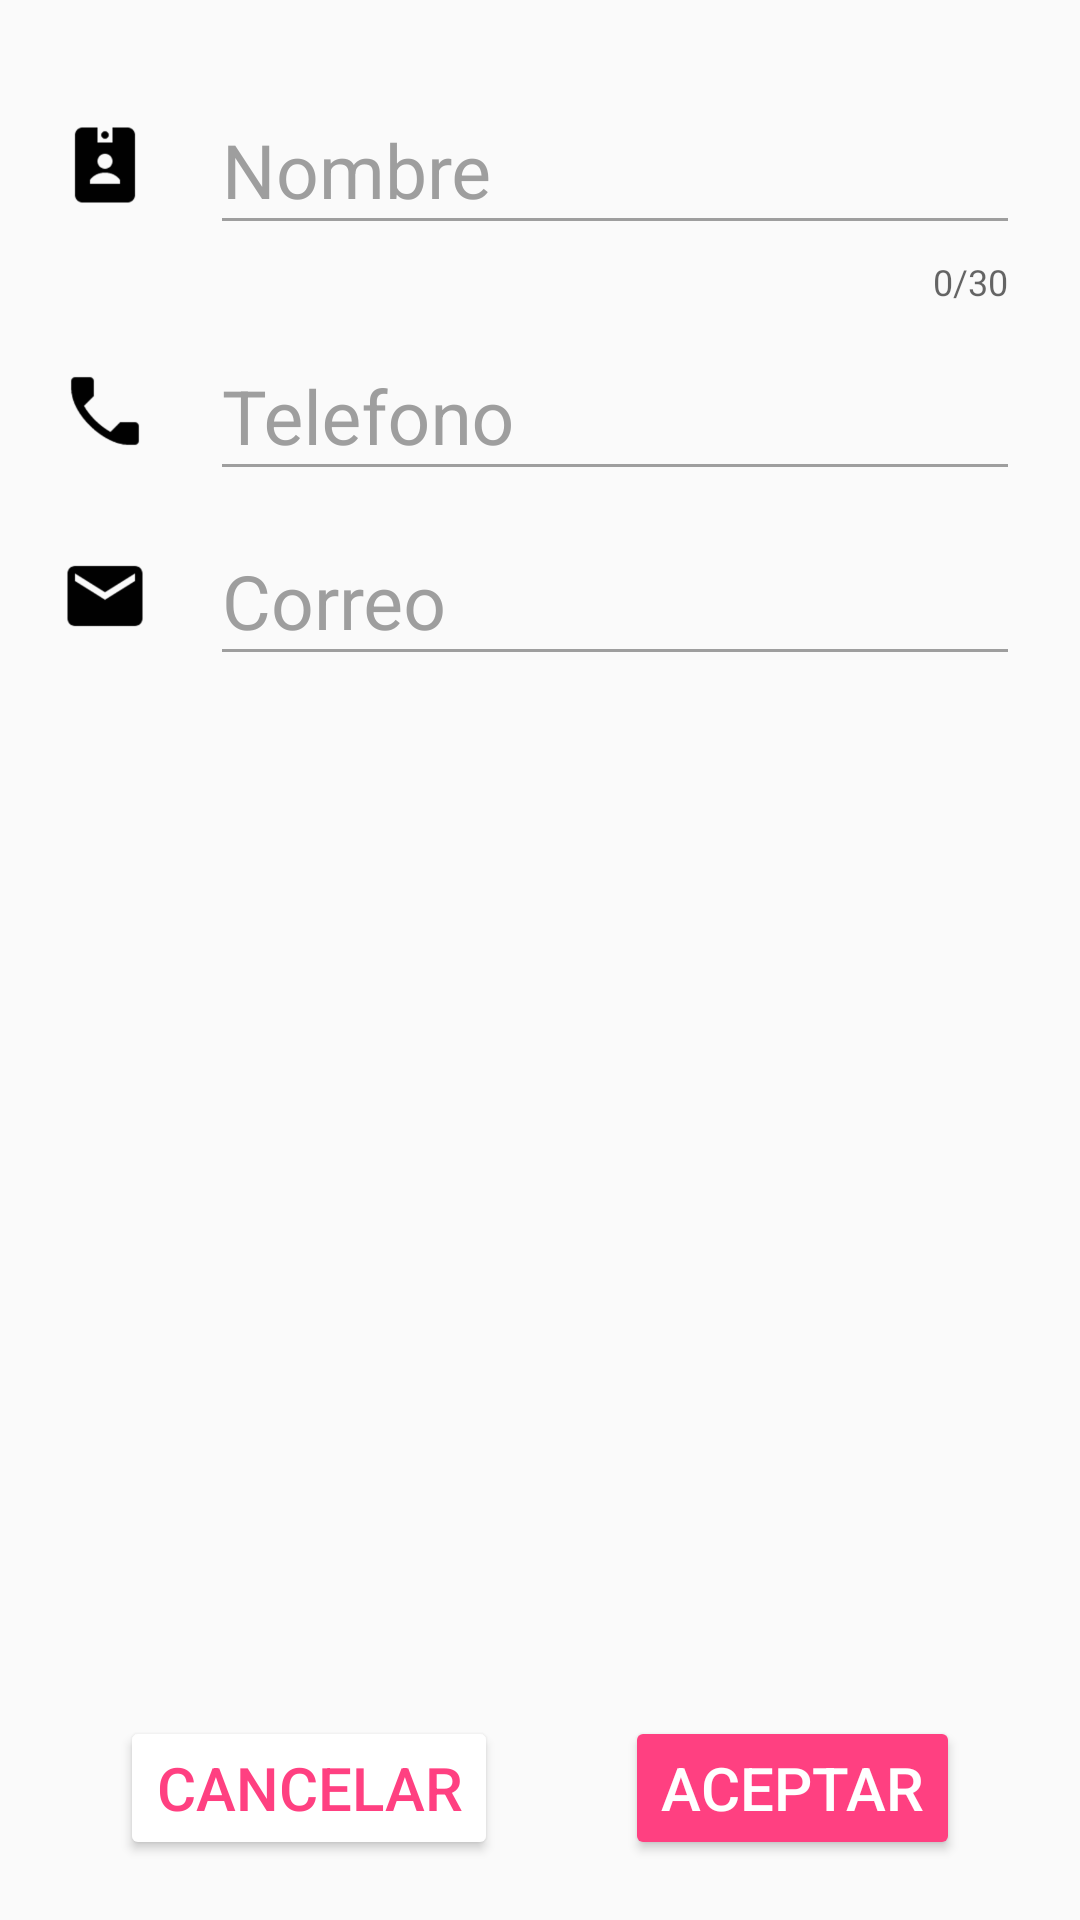

Locate icon controls on the screen. Image size 1080*1920, boxes as (x1, y1, x2, y2).
mensaje relleno: (67, 565, 143, 627)
tarjeta de empleado: (74, 127, 136, 203)
tel fono: (71, 377, 139, 445)
